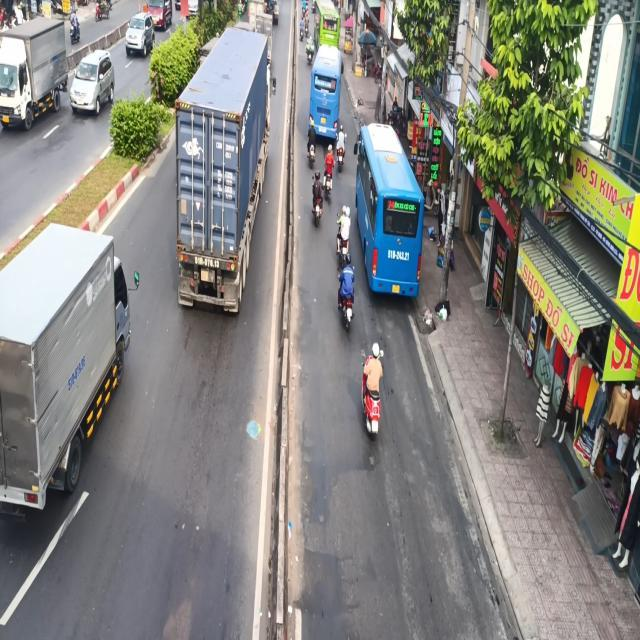bus: (353, 122, 424, 298), (307, 44, 343, 141)
container-truck: (173, 25, 272, 315)
motorcycle: (359, 344, 384, 439)
truck: (0, 221, 131, 521), (0, 16, 68, 130)
